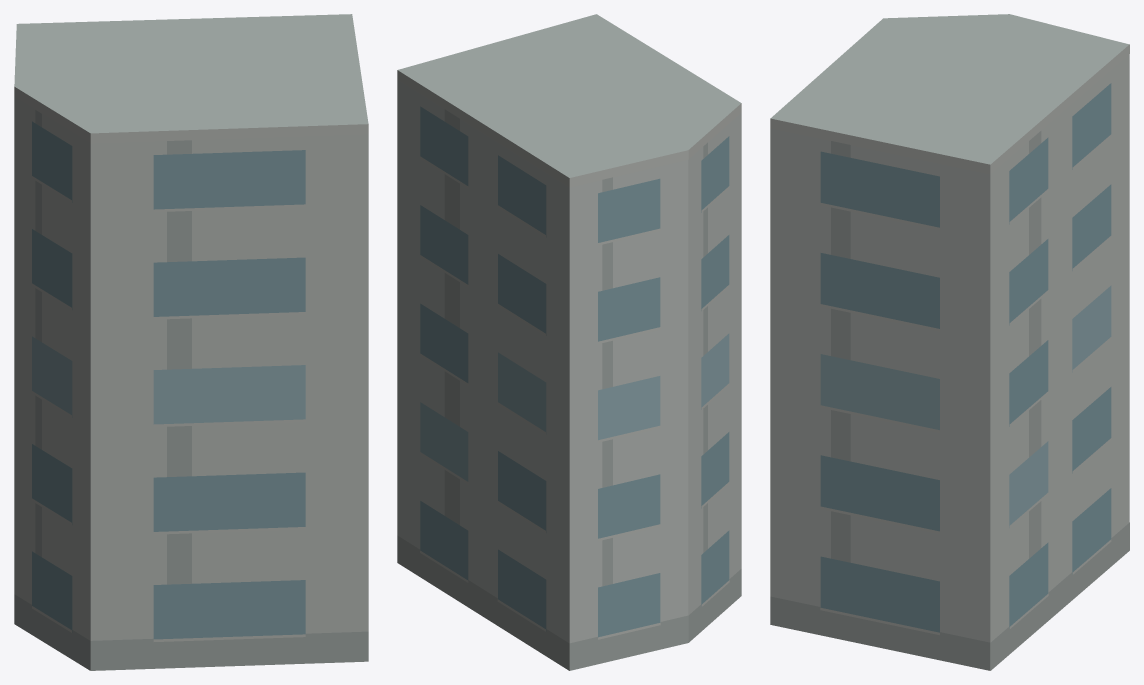
The model's file is survey-upis-32729608.glb.
The picture shows the model from 3 angles, left to right: view 1: azimuth 30°, elevation 25°; view 2: azimuth 150°, elevation 25°; view 3: azimuth 270°, elevation 25°; orthographic projection. The views are drawn at different scales.
Parts seen in each view (by area): view 1: survey-upis-32729608.tmp; view 2: survey-upis-32729608.tmp; view 3: survey-upis-32729608.tmp.
Boxes of the visible parts, left/top/right/bottom form: survey-upis-32729608.tmp: left=14, top=14, right=368, bottom=670; survey-upis-32729608.tmp: left=397, top=14, right=741, bottom=670; survey-upis-32729608.tmp: left=770, top=14, right=1129, bottom=670.
Bounding box in the file's own units: 8.18 × 12.8 × 8.24.
